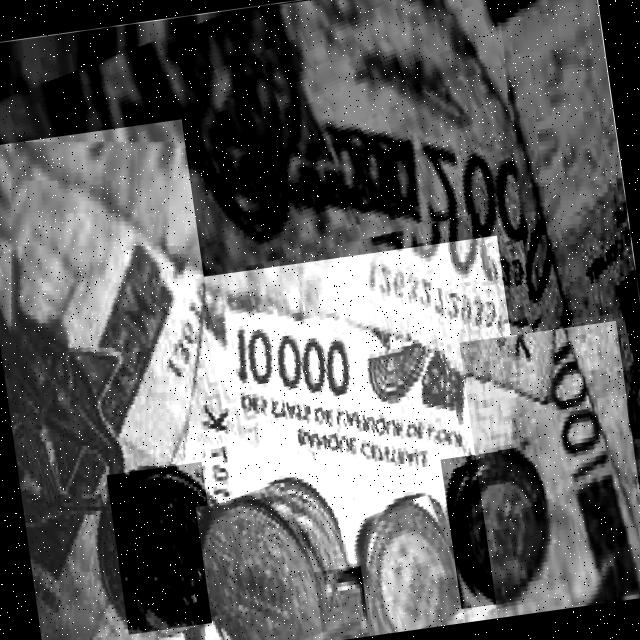niaar junni: (181, 280, 517, 564)
niaar teemeer: (498, 328, 640, 618)
niaari fukk: (114, 467, 223, 624), (202, 504, 321, 640)
nient fukk: (450, 451, 548, 602), (361, 503, 462, 634)
nient teemeer: (0, 0, 581, 334)
teemeer: (10, 143, 204, 640), (500, 0, 640, 588)
